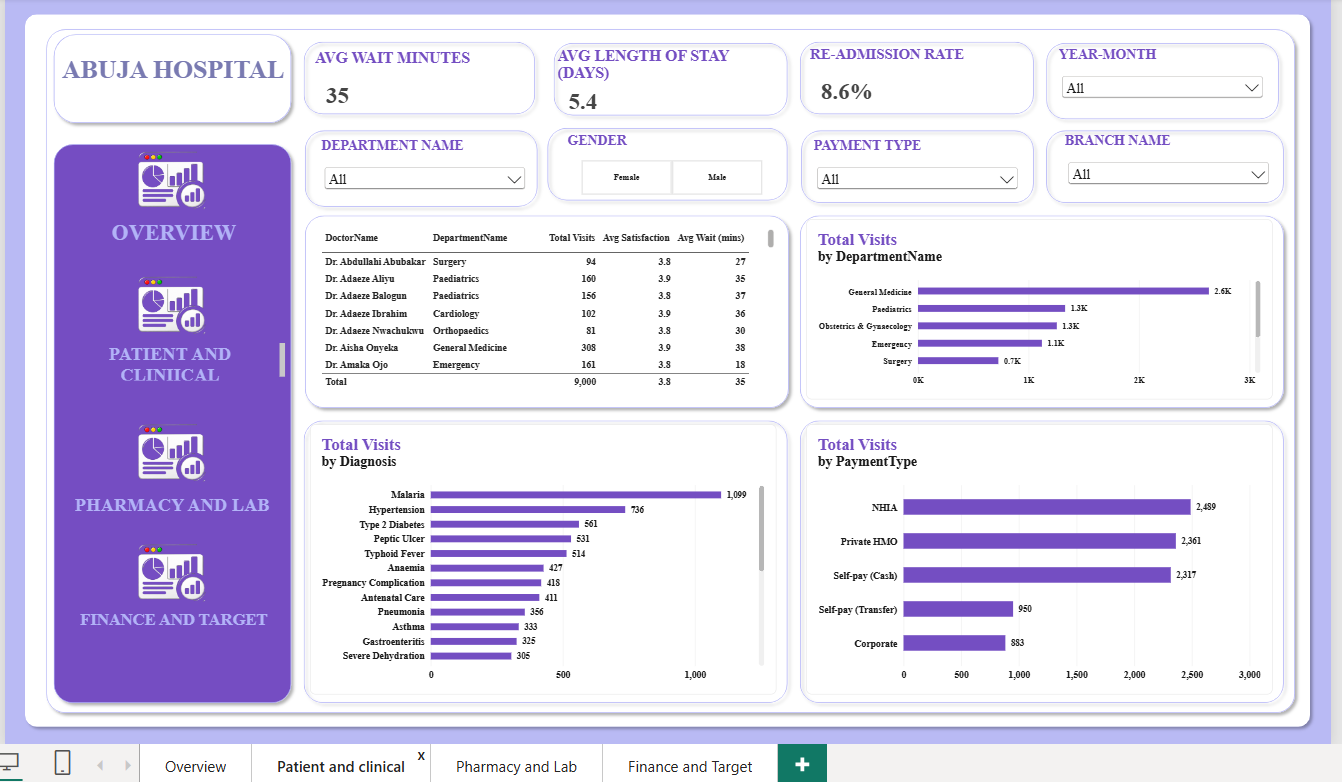

This screenshot's page, from the dashboard's own definition file:
{"tool":"powerbi","page":{"name":"Patient and clinical","canvas":[1920,1080],"ordinal":1},"visuals":[{"type":"shape","box":[19.9,14.5,1878.4,1049.6],"z":0},{"type":"shape","box":[50.7,36.2,1825.9,1008],"z":1000},{"type":"shape","box":[61.5,202.7,361.9,827],"z":2000},{"type":"image","box":[152,222.6,179.2,83.2],"z":3000},{"type":"textbox","box":[130.3,320.3,228,43.4],"z":4000},{"type":"textbox","box":[81.4,499.5,323.9,54.3],"z":5000},{"type":"image","box":[152,403.6,179.2,83.2],"z":6000},{"type":"textbox","box":[92.3,718.4,300.4,72.4],"z":7000},{"type":"image","box":[152,617.1,179.2,83.2],"z":8000},{"type":"image","box":[152,790.8,179.2,83.2],"z":9000},{"type":"textbox","box":[94.1,886.7,300.4,50.7],"z":10000},{"type":"shape","box":[61.5,43.4,361.9,146.6],"z":11000},{"type":"textbox","box":[81.4,81.4,323.9,79.6],"z":12000},{"type":"shape","box":[423.5,602.6,718.4,427.1],"z":13000},{"type":"shape","box":[1141.9,602.6,718.4,427.1],"z":14000},{"type":"shape","box":[1141.9,305.8,718.4,296.8],"z":15000},{"type":"shape","box":[425.3,305.8,718.4,296.8],"z":16000},{"type":"tableEx","fields":{"Values":["Dim_Doctor.DoctorName","Dim_Department.DepartmentName","Visit_Dax.Total Visits","Visit_Dax.Avg Satisfaction","Visit_Dax.Avg Wait (mins)"]},"box":[441.6,320.3,687.7,264.2],"z":17000},{"type":"clusteredBarChart","fields":{"Category":["Fact_Visits.Diagnosis"],"Y":["Visit_Dax.Total Visits"]},"box":[441.6,617.1,675,390.9],"z":18000},{"type":"clusteredBarChart","fields":{"Category":["Dim_Patient.PaymentType"],"Y":["Visit_Dax.Total Visits"]},"box":[1160,617.1,675,390.9],"z":19000},{"type":"shape","box":[423.5,54.3,352.9,123.1],"z":20000},{"type":"cardVisual","title":"AVG WAIT MINUTES","fields":{"Data":["Visit_Dax.Avg Wait (mins)"]},"box":[448.8,74.2,273.3,92.3],"z":21000},{"type":"shape","box":[785.4,56.1,356.5,123.1],"z":22000},{"type":"shape","box":[1141.9,54.3,356.5,123.1],"z":23000},{"type":"cardVisual","title":"AVG LENGTH OF STAY (DAYS)","fields":{"Data":["Visit_Dax.Avg Length of Stay"]},"box":[799.9,70.6,316.7,92.3],"z":24000},{"type":"cardVisual","title":"RE-ADMISSION RATE","fields":{"Data":["Visit_Dax.Readmission Rate %"]},"box":[1165.4,68.8,273.3,92.3],"z":25000},{"type":"clusteredBarChart","fields":{"Category":["Dim_Department.DepartmentName"],"Y":["Visit_Dax.Total Visits"]},"box":[1160,320.3,675,260.6],"z":26000},{"type":"shape","box":[425.3,182.8,354.7,128.5],"z":27000},{"type":"slicer","title":"DEPARTMENT NAME","fields":{"Values":["Dim_Department.DepartmentName"]},"box":[457.8,202.7,300.4,90.5],"z":28000},{"type":"shape","box":[776.3,179.2,365.6,123.1],"z":29000},{"type":"shape","box":[1143.7,182.8,354.7,123.1],"z":30000},{"type":"shape","box":[1498.4,182.8,361.9,123.1],"z":31000},{"type":"slicer","title":"GENDER","fields":{"Values":["Dim_Patient.Gender"]},"box":[814.3,195.4,300.4,90.5],"z":32000},{"type":"slicer","title":"BRANCH NAME","fields":{"Values":["Dim_Branch.BranchName"]},"box":[1534.6,195.4,300.4,90.5],"z":33000},{"type":"slicer","title":"PAYMENT TYPE","fields":{"Values":["Dim_Patient.PaymentType"]},"box":[1170.9,202.7,300.4,90.5],"z":34000},{"type":"shape","box":[1498.4,56.1,354.7,128.5],"z":34001},{"type":"slicer","title":"YEAR-MONTH","fields":{"Values":["Dim_Date.Year-Month"]},"box":[1525.5,70.6,300.4,90.5],"z":34002}]}

Visuals, with their boxes on the page's 1920x1080 design canvas (x1, y1, x2, y2). These are canvas units, not pixel positions in the 1342x782 screenshot, which may show the page scaled, cropped or inside an application window:
shape: (left=20, top=14, right=1898, bottom=1064)
shape: (left=51, top=36, right=1877, bottom=1044)
shape: (left=62, top=203, right=423, bottom=1030)
image: (left=152, top=223, right=331, bottom=306)
textbox: (left=130, top=320, right=358, bottom=364)
textbox: (left=81, top=500, right=405, bottom=554)
image: (left=152, top=404, right=331, bottom=487)
textbox: (left=92, top=718, right=393, bottom=791)
image: (left=152, top=617, right=331, bottom=700)
image: (left=152, top=791, right=331, bottom=874)
textbox: (left=94, top=887, right=394, bottom=937)
shape: (left=62, top=43, right=423, bottom=190)
textbox: (left=81, top=81, right=405, bottom=161)
shape: (left=424, top=603, right=1142, bottom=1030)
shape: (left=1142, top=603, right=1860, bottom=1030)
shape: (left=1142, top=306, right=1860, bottom=603)
shape: (left=425, top=306, right=1144, bottom=603)
tableEx - Dim_Doctor.DoctorName x Dim_Department.DepartmentName: (left=442, top=320, right=1129, bottom=584)
clusteredBarChart - Fact_Visits.Diagnosis x Visit_Dax.Total Visits: (left=442, top=617, right=1117, bottom=1008)
clusteredBarChart - Dim_Patient.PaymentType x Visit_Dax.Total Visits: (left=1160, top=617, right=1835, bottom=1008)
shape: (left=424, top=54, right=776, bottom=177)
"AVG WAIT MINUTES" cardVisual: (left=449, top=74, right=722, bottom=166)
shape: (left=785, top=56, right=1142, bottom=179)
shape: (left=1142, top=54, right=1498, bottom=177)
"AVG LENGTH OF STAY (DAYS)" cardVisual: (left=800, top=71, right=1117, bottom=163)
"RE-ADMISSION RATE" cardVisual: (left=1165, top=69, right=1439, bottom=161)
clusteredBarChart - Dim_Department.DepartmentName x Visit_Dax.Total Visits: (left=1160, top=320, right=1835, bottom=581)
shape: (left=425, top=183, right=780, bottom=311)
"DEPARTMENT NAME" slicer: (left=458, top=203, right=758, bottom=293)
shape: (left=776, top=179, right=1142, bottom=302)
shape: (left=1144, top=183, right=1498, bottom=306)
shape: (left=1498, top=183, right=1860, bottom=306)
"GENDER" slicer: (left=814, top=195, right=1115, bottom=286)
"BRANCH NAME" slicer: (left=1535, top=195, right=1835, bottom=286)
"PAYMENT TYPE" slicer: (left=1171, top=203, right=1471, bottom=293)
shape: (left=1498, top=56, right=1853, bottom=185)
"YEAR-MONTH" slicer: (left=1526, top=71, right=1826, bottom=161)
